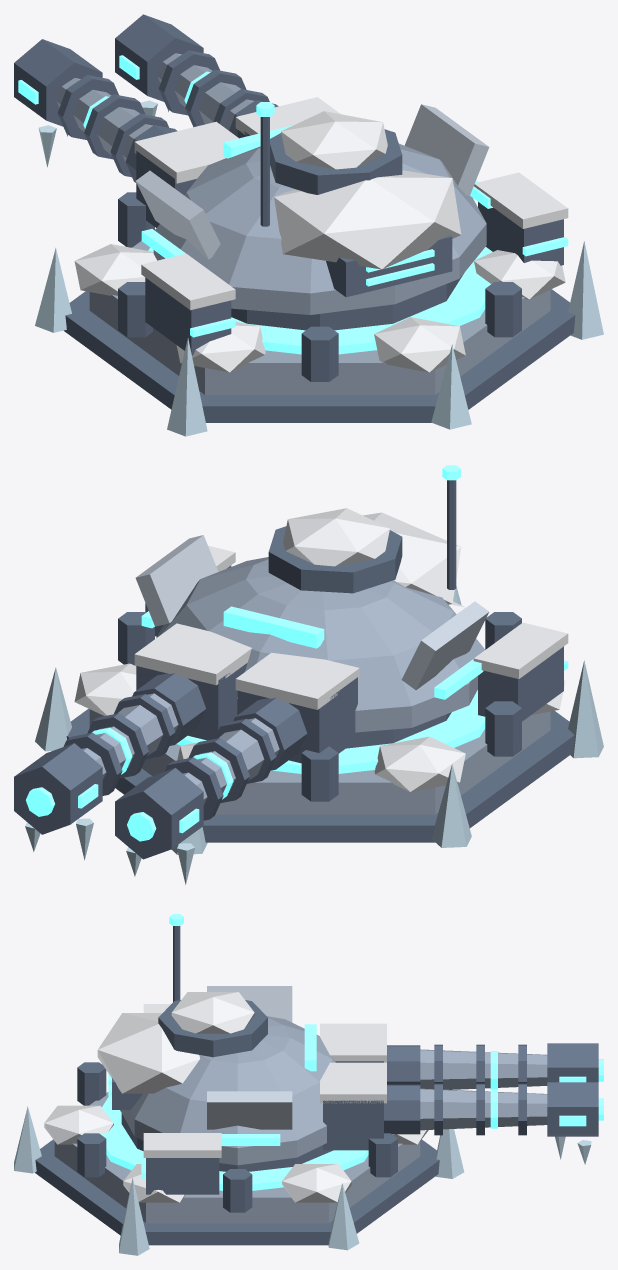
File: turret_lvl3.glb
The picture shows the model from 3 angles, top to bottom: view 1: azimuth 30°, elevation 25°; view 2: azimuth 150°, elevation 25°; view 3: azimuth 270°, elevation 25°; orthographic projection. The views are drawn at different scales.
Parts seen in each view (by area): view 1: Dome_05, BaseSkirt_02, SnowBlanket_56, Base_01, SnowCupola_69, Neon_BaseRing_03, Pivot_04, ArmorPlate_42, SnowMound_61, MuzzleBrake_29, Cupola_55, MuzzleBrake_15 (+33 smaller); view 2: Dome_05, BaseSkirt_02, Base_01, MuzzleBrake_15, MuzzleBrake_29, SnowCupola_69, SnowCap_08, SnowCap_22, Cupola_55, ArmorPlate_42, SnowMound_59, SnowBlanket_56 (+30 smaller); view 3: Dome_05, BaseSkirt_02, Base_01, SnowBlanket_56, BarrelTube_24, BarrelTube_10, ArmorPlate_42, Neon_BaseRing_03, SnowCupola_69, Cupola_55, BarrelMount_21, SaddleBag_53 (+27 smaller).
Part boxes in pixels (bbox=[...]): Dome_05: bbox=[153, 143, 486, 314]; BaseSkirt_02: bbox=[64, 289, 575, 422]; SnowBlanket_56: bbox=[274, 170, 461, 269]; Base_01: bbox=[89, 241, 550, 394]; SnowCupola_69: bbox=[281, 111, 387, 169]; Neon_BaseRing_03: bbox=[148, 247, 492, 354]; Pivot_04: bbox=[231, 274, 463, 330]; ArmorPlate_42: bbox=[404, 104, 489, 195]; SnowMound_61: bbox=[374, 317, 465, 372]; MuzzleBrake_29: bbox=[115, 14, 203, 101]; Cupola_55: bbox=[270, 129, 402, 194]; MuzzleBrake_15: bbox=[14, 39, 102, 126]; Dome_05: bbox=[156, 557, 485, 732]; BaseSkirt_02: bbox=[66, 708, 574, 842]; Base_01: bbox=[89, 665, 550, 814]; MuzzleBrake_15: bbox=[115, 768, 203, 859]; MuzzleBrake_29: bbox=[14, 743, 102, 834]; SnowCupola_69: bbox=[283, 508, 389, 566]; SnowCap_08: bbox=[235, 652, 359, 709]; SnowCap_22: bbox=[134, 623, 251, 685]; Cupola_55: bbox=[268, 526, 402, 593]; ArmorPlate_42: bbox=[135, 535, 218, 626]; SnowMound_59: bbox=[374, 736, 465, 791]; SnowBlanket_56: bbox=[363, 512, 461, 604]; Dome_05: bbox=[120, 1016, 335, 1165]; BaseSkirt_02: bbox=[35, 1139, 439, 1245]; Base_01: bbox=[54, 1092, 420, 1223]; SnowBlanket_56: bbox=[97, 1013, 199, 1093]; BarrelTube_24: bbox=[420, 1088, 547, 1130]; BarrelTube_10: bbox=[420, 1049, 547, 1089]; ArmorPlate_42: bbox=[207, 1091, 292, 1129]; Neon_BaseRing_03: bbox=[101, 1096, 368, 1190]; SnowCupola_69: bbox=[171, 992, 254, 1033]; Cupola_55: bbox=[158, 1000, 267, 1057]; BarrelMount_21: bbox=[323, 1100, 383, 1150]; SaddleBag_53: bbox=[146, 1158, 219, 1194].
Size of the model in its own units: 3.41 by 2.08 by 5.08.
